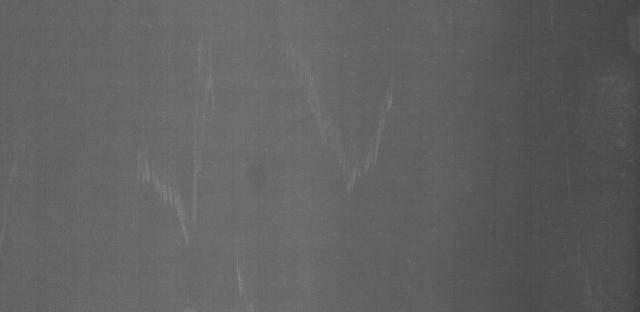silk_spot: (286, 74, 402, 197), (119, 140, 204, 252), (225, 241, 261, 307)
